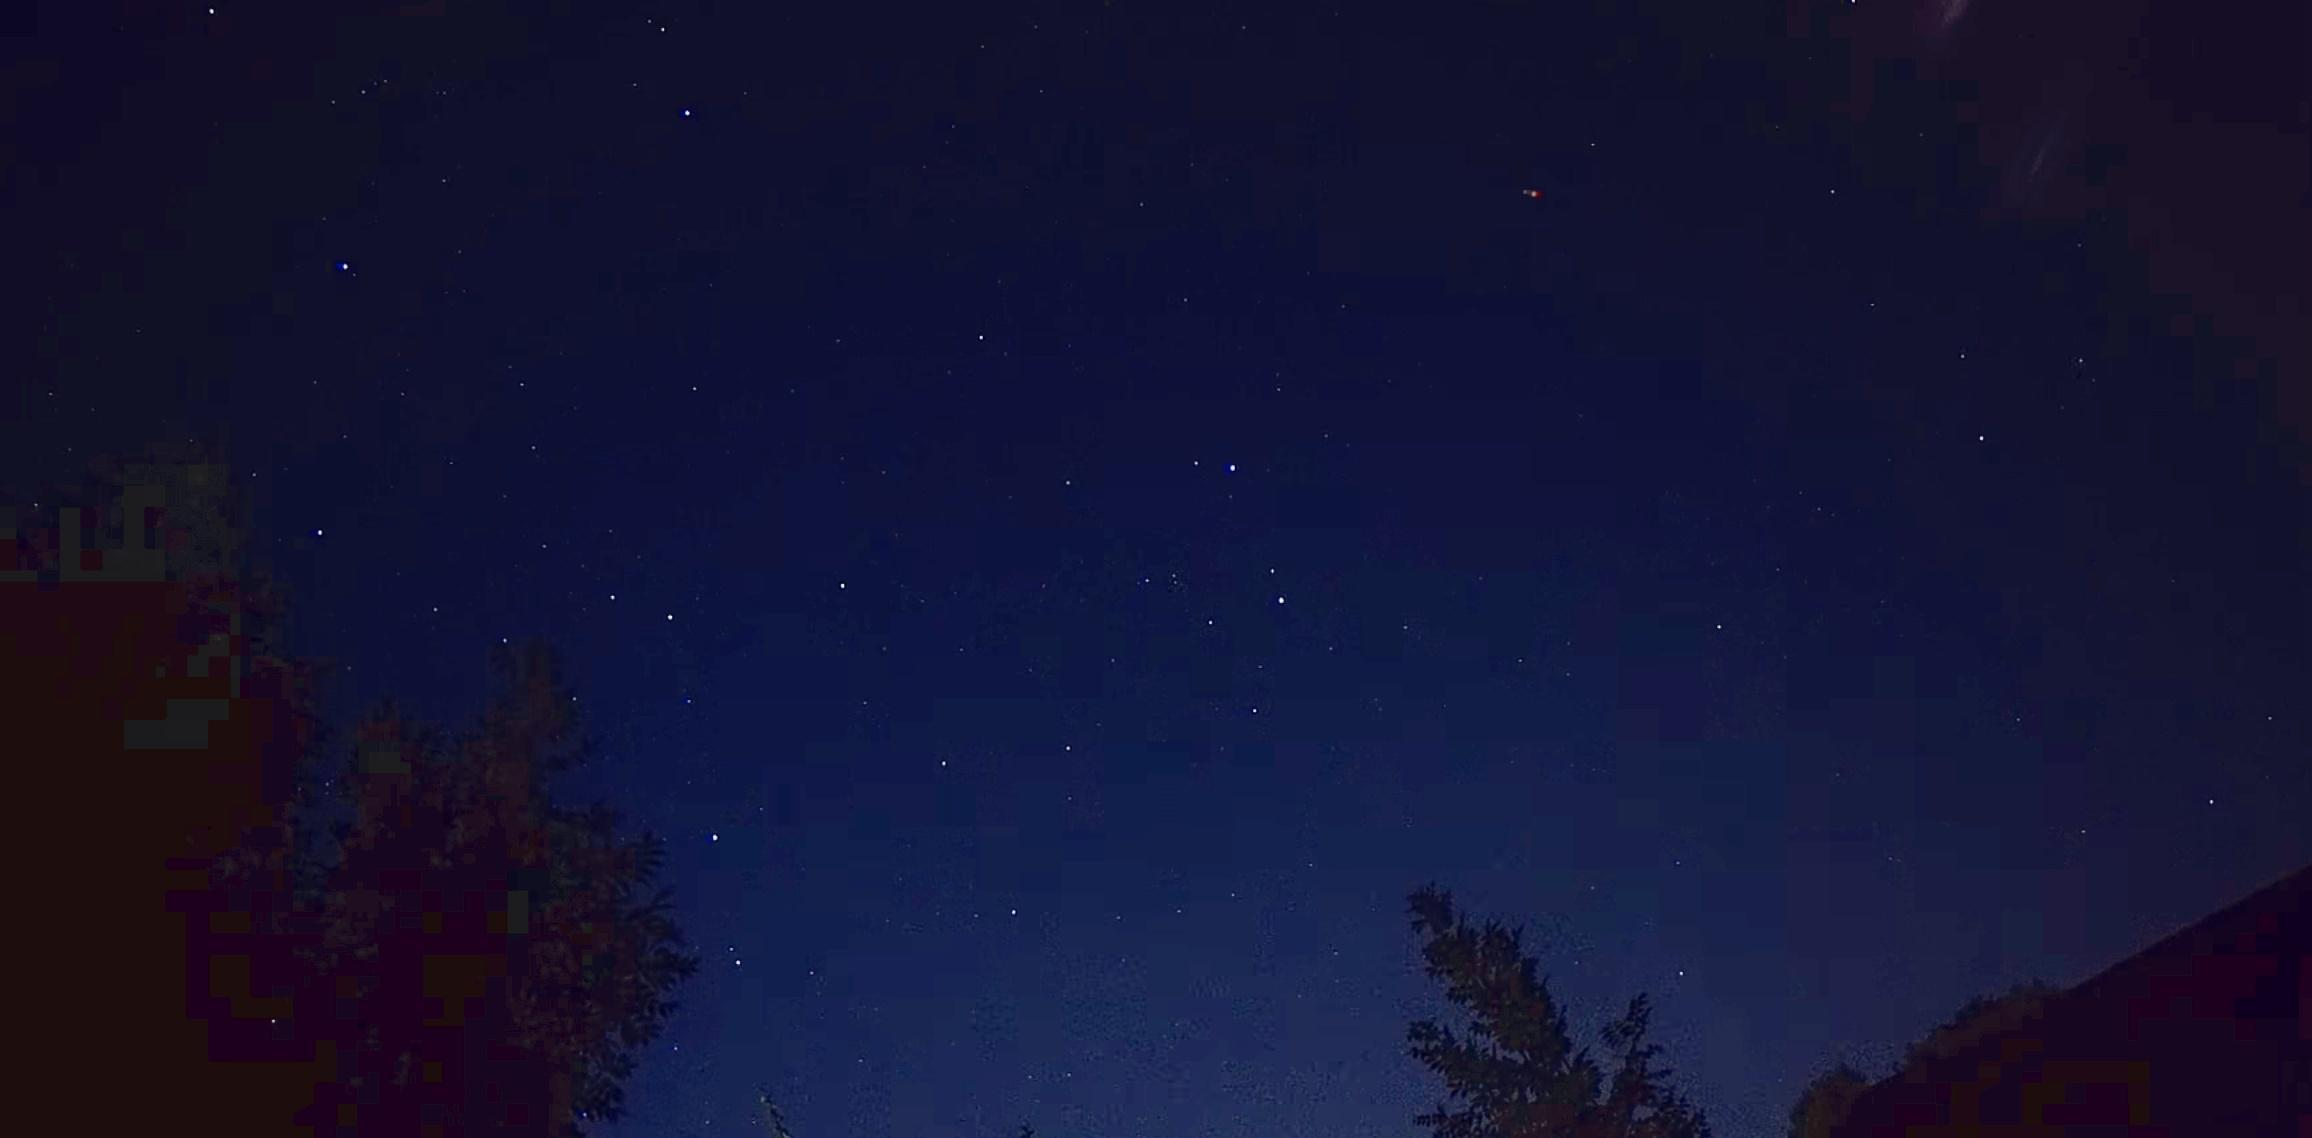Plane: (1503, 181, 1563, 208)
